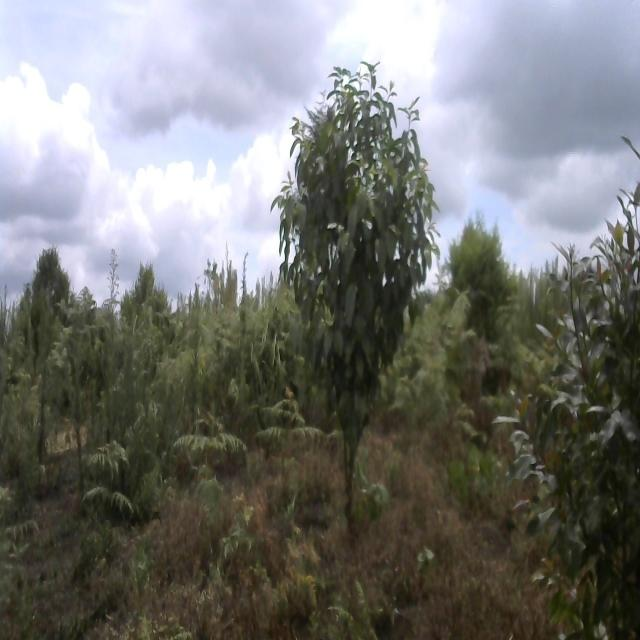Prunus Africana: (274, 46, 449, 534)
Syzygium guinesis: (513, 141, 640, 640)
